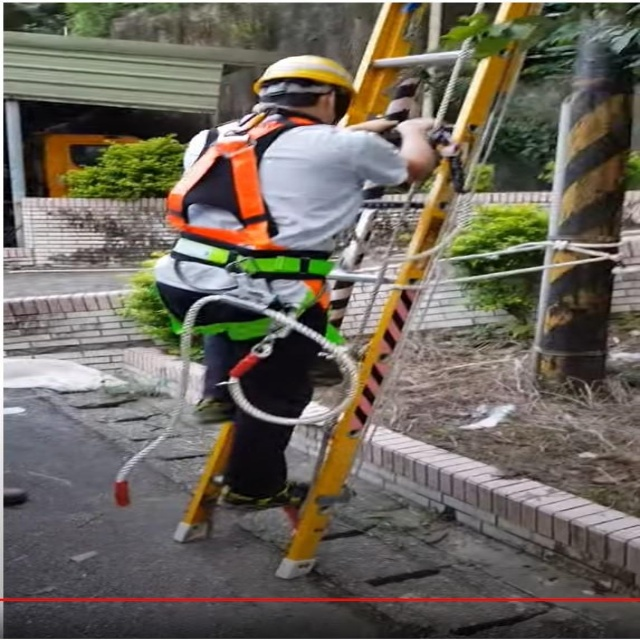Arnes_seguridad: (151, 112, 342, 342)
